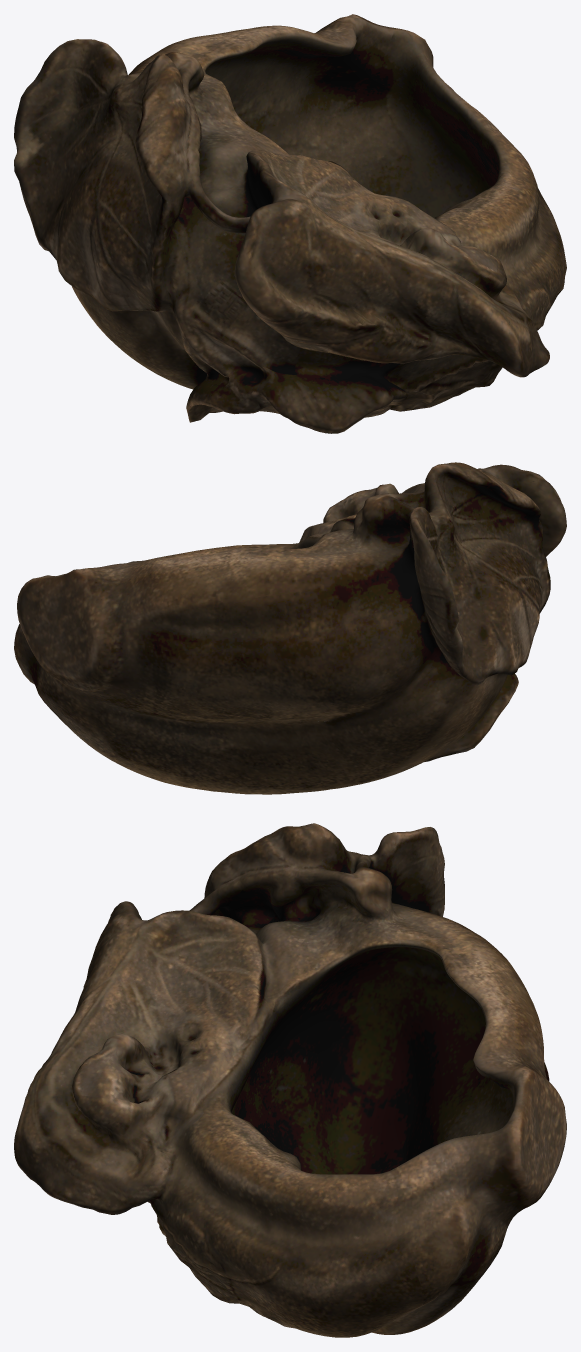
3 renders of one model, top to bottom at view 1: azimuth 30°, elevation 25°; view 2: azimuth 150°, elevation 25°; view 3: azimuth 270°, elevation 25°, orthographic. The views are drawn at different scales.
Parts seen in each view (by area): view 1: SZB_zb_45_D; view 2: SZB_zb_45_D; view 3: SZB_zb_45_D.
Boxes of the visible parts, box(x1,y1,x2,y2) form: SZB_zb_45_D: box(14, 14, 566, 433); SZB_zb_45_D: box(14, 462, 566, 794); SZB_zb_45_D: box(14, 823, 566, 1337).
Size of the model in its own units: 0.093 by 0.0694 by 0.0912.
